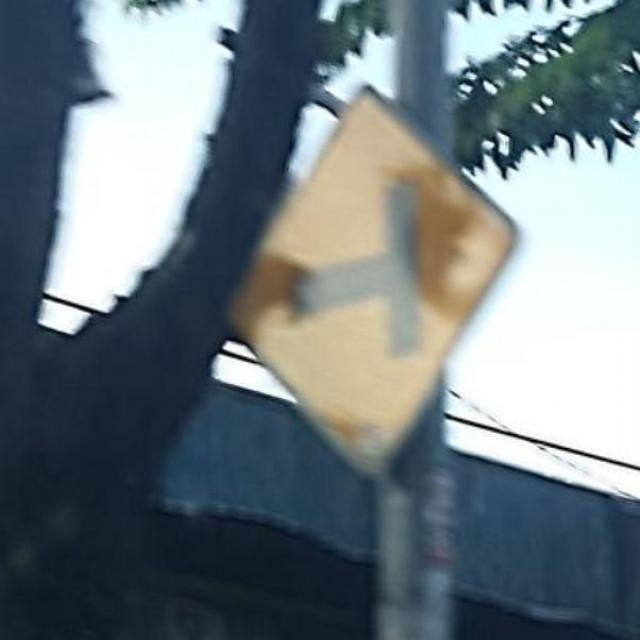traffic sign: (272, 112, 512, 463)
